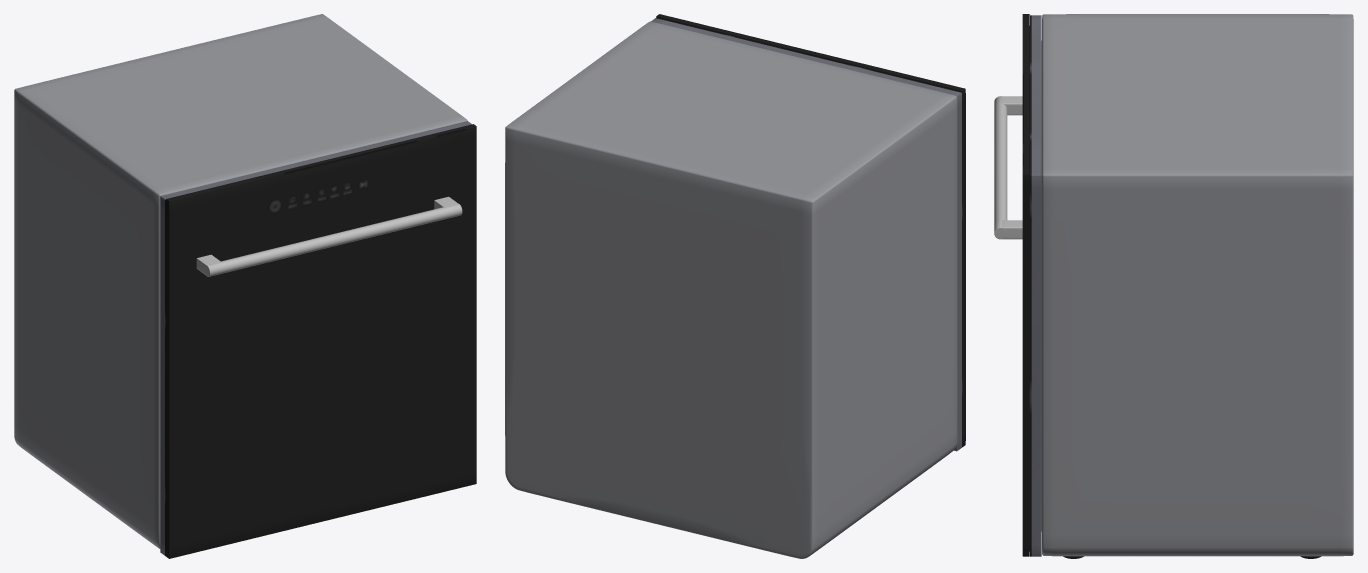
File: visual_HighPoly_10_DishWasher.dae
3 views of the same model, side by side, from view 1: azimuth 30°, elevation 25°; view 2: azimuth 150°, elevation 25°; view 3: azimuth 270°, elevation 25° (orthographic). The views are drawn at different scales.
Parts seen in each view (by area): view 1: SM_dishwasher_H; view 2: SM_dishwasher_H; view 3: SM_dishwasher_H.
Part boxes in pixels (x1,y1,x2,y2): SM_dishwasher_H: (14, 14, 476, 558); SM_dishwasher_H: (505, 14, 965, 558); SM_dishwasher_H: (994, 14, 1353, 558).
Size of the model in its own units: 59.56 by 55.99 by 68.
1 material, 1 textured.
